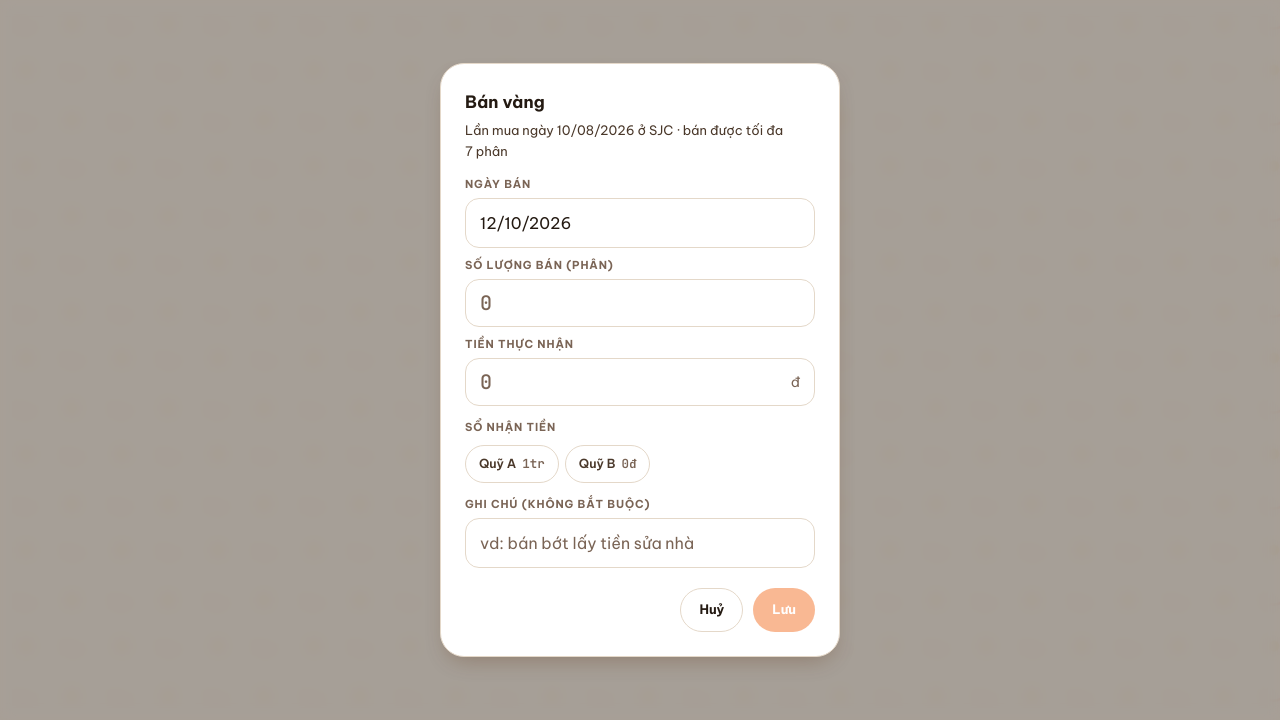
Test: MetalSaleModal › refuses a date it cannot read, and a date before the purchase
Type "1" into the field labelled "Số lượng bán (phân)" at (640,303), box [480, 280, 800, 326]
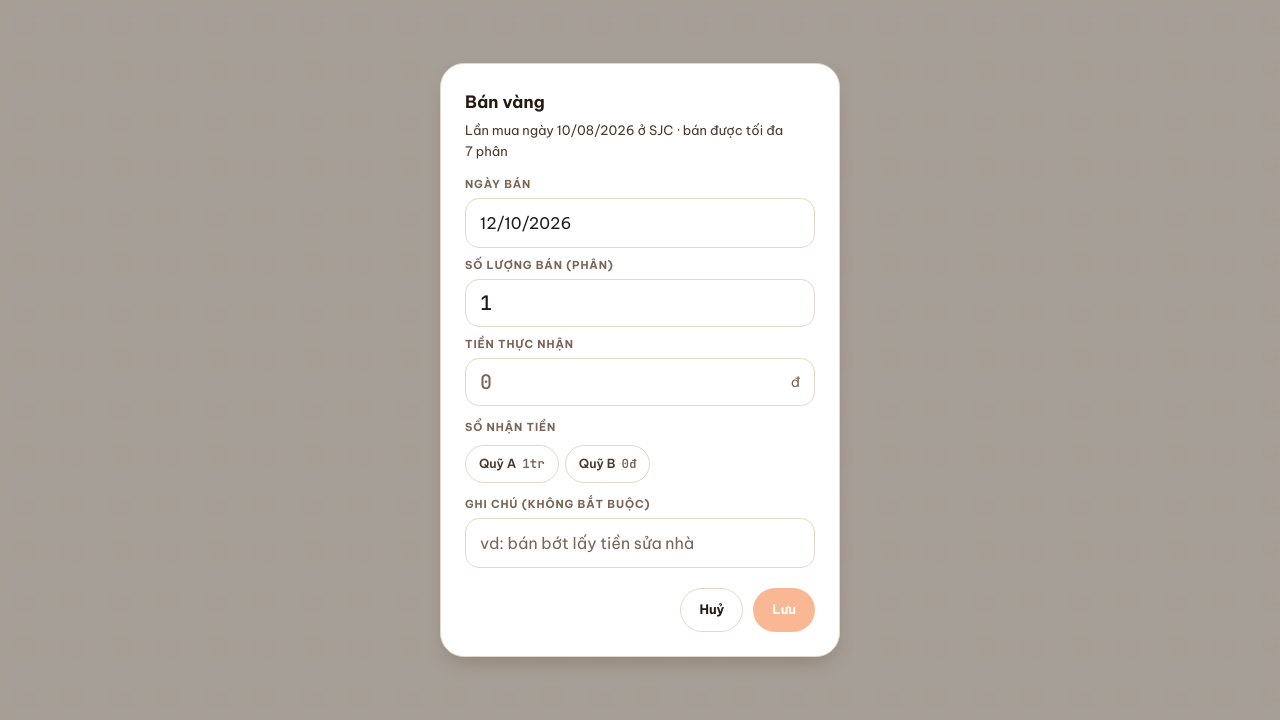
Type "1000000" into the field labelled "Tiền thực nhận" at (631,382), box [480, 359, 783, 405]
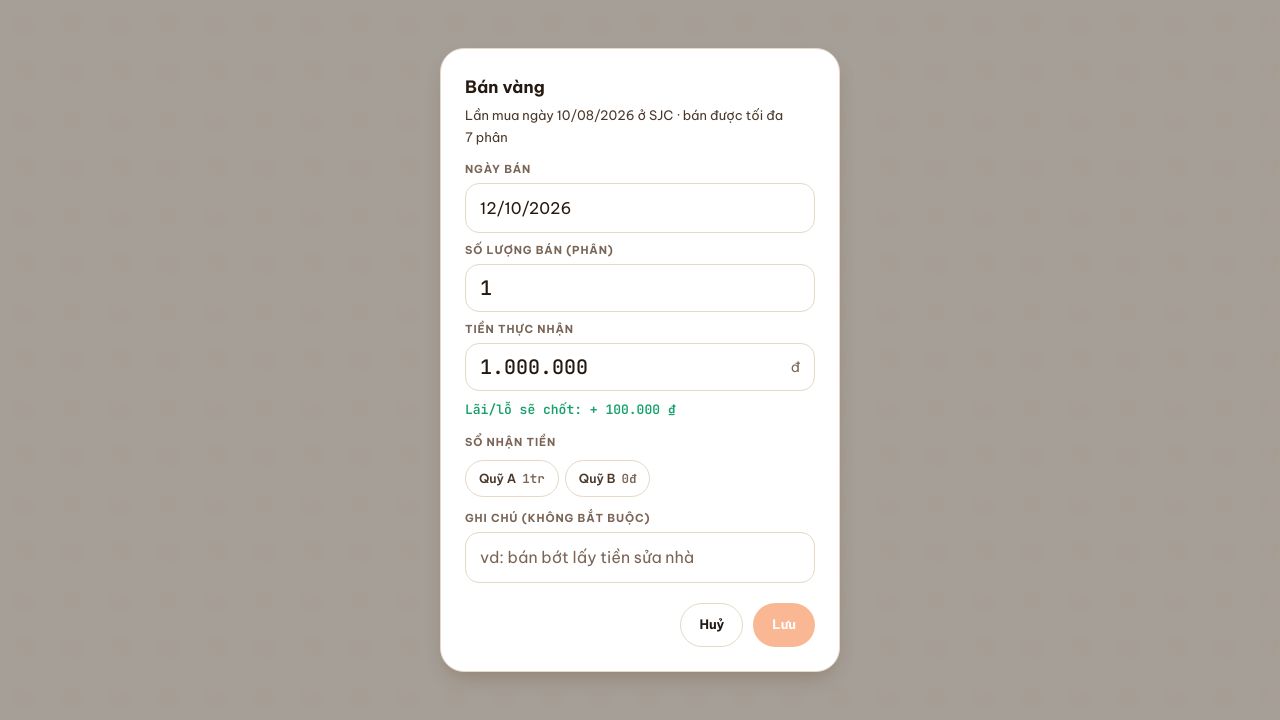
Click the button "Quỹ A1tr" at (512,479), box [465, 460, 559, 498]
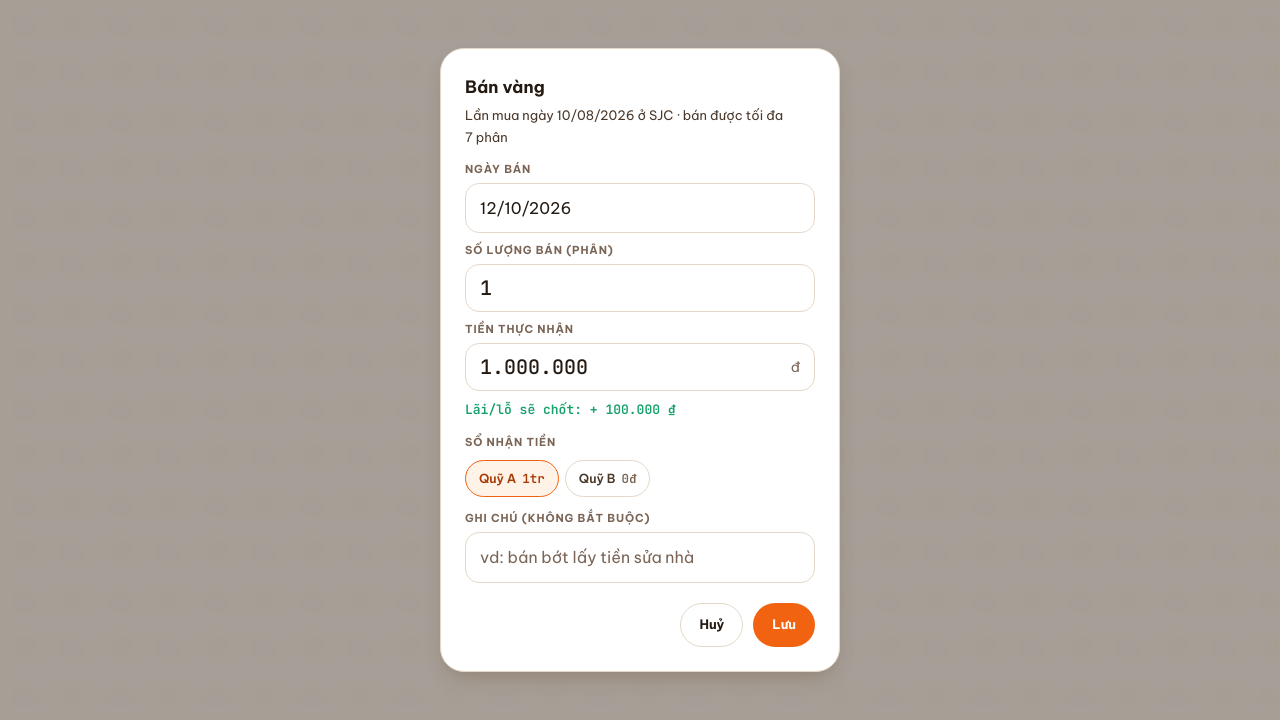
Replace the text in the field labelled "Ngày bán" with "32/13/2026" at (640,208), box [480, 184, 800, 232]
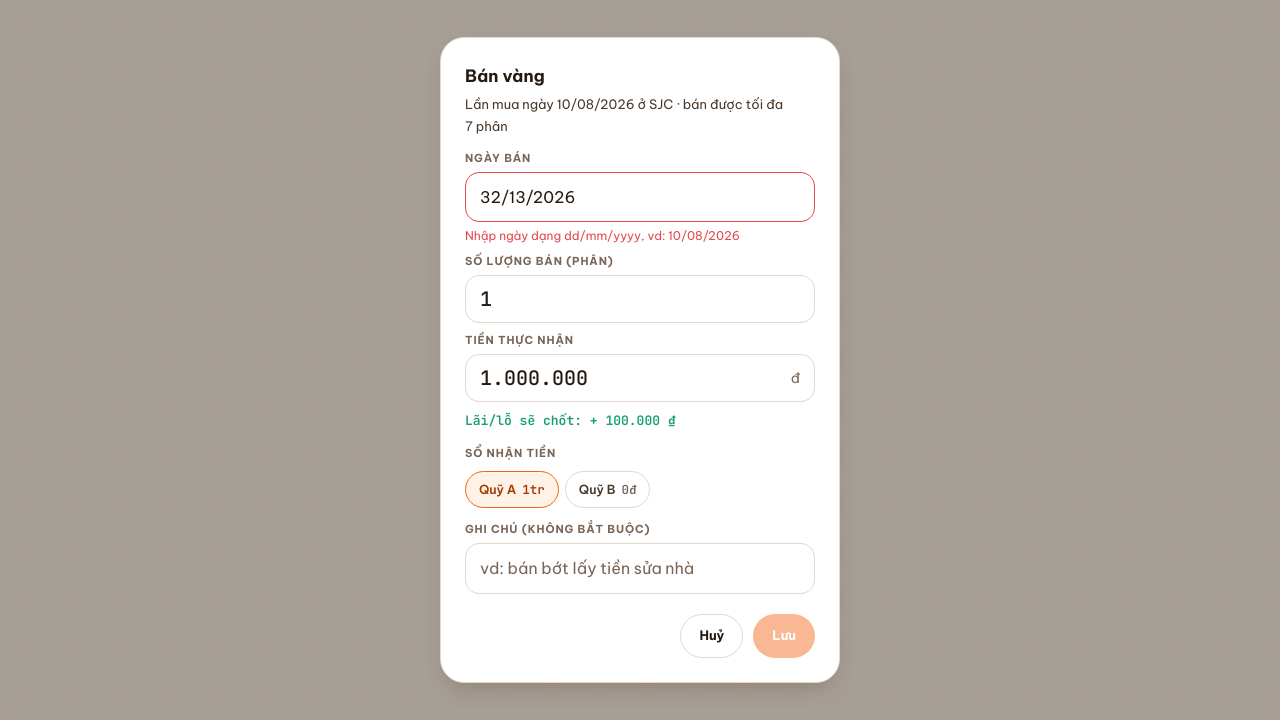
Expected: the text "Nhập ngày dạng dd/mm/yyyy, vd: 10/08/2026" is shown, [465, 228, 740, 243]
Expected: the button "Lưu" is disabled, [753, 614, 815, 658]
Replace the text in the field labelled "Ngày bán" with "09/08/2026" at (640,197), box [480, 173, 800, 221]
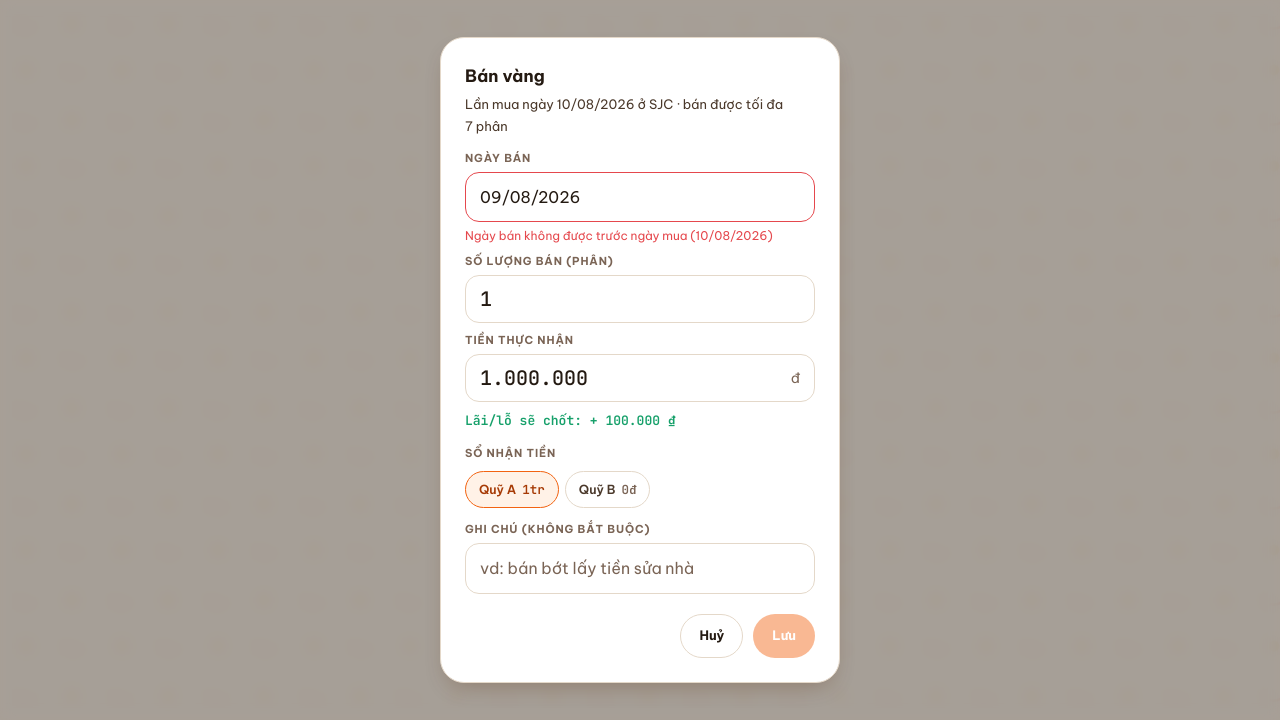
Expected: the button "Lưu" is disabled, [753, 614, 815, 658]
Expected: the text "Ngày bán không được trước ngày mua (10/08/2026)" is shown, [465, 228, 815, 244]
Replace the text in the field labelled "Ngày bán" with "10/08/2026" at (640,197), box [480, 173, 800, 221]
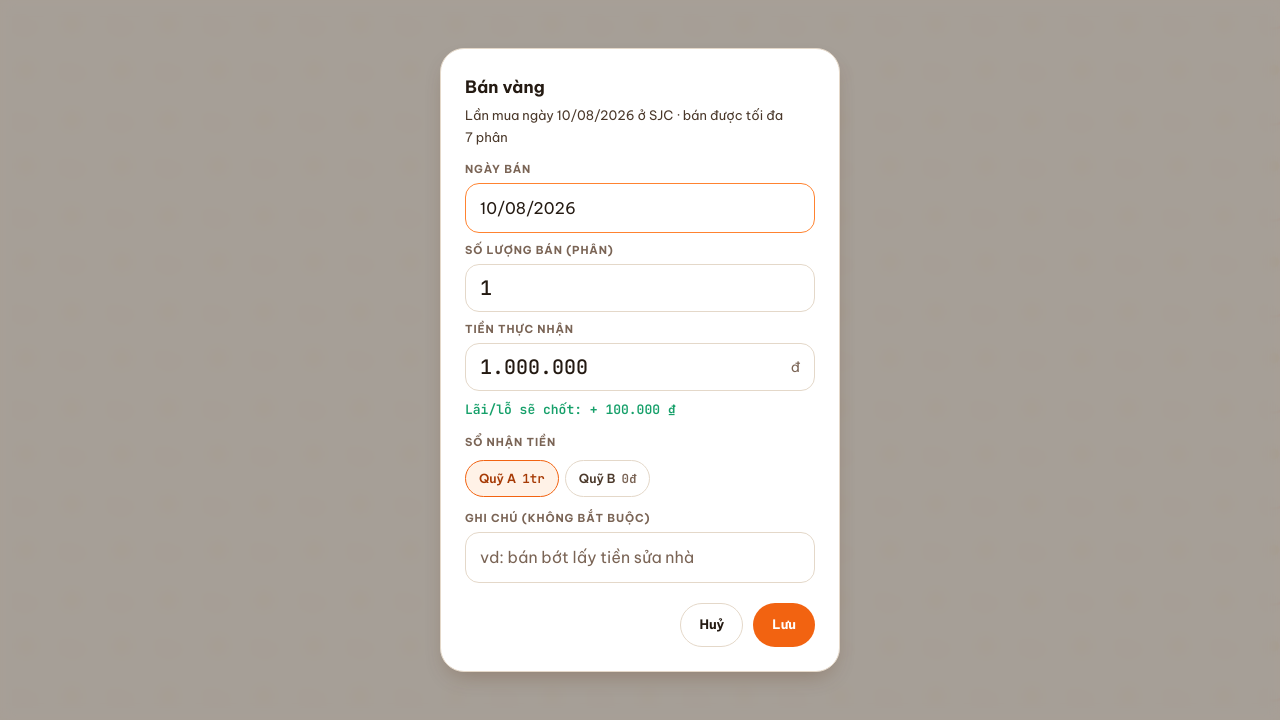
Expected: the button "Lưu" is enabled, [753, 603, 815, 647]
